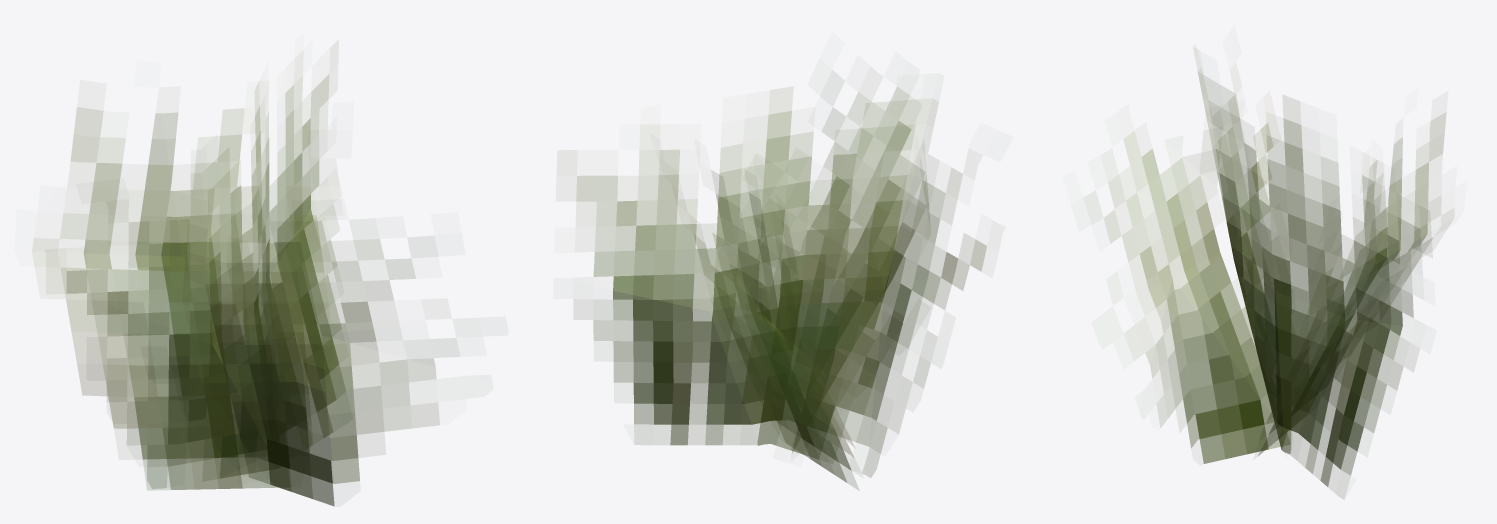
File: bush-small.lod2.glb
3 renders of one model, left to right at view 1: azimuth 30°, elevation 25°; view 2: azimuth 150°, elevation 25°; view 3: azimuth 270°, elevation 25°, orthographic. The views are drawn at different scales.
Visible parts, largest first — view 1: Small_bush_1_phong3_0; view 2: Small_bush_1_phong3_0; view 3: Small_bush_1_phong3_0.
Part boxes in pixels (x1,y1,x2,y2): Small_bush_1_phong3_0: [45, 74, 439, 506]; Small_bush_1_phong3_0: [576, 87, 986, 489]; Small_bush_1_phong3_0: [1104, 68, 1445, 486].
Size of the model in its own units: 0.9432 by 0.9 by 0.9463.
1 material, 1 textured.
